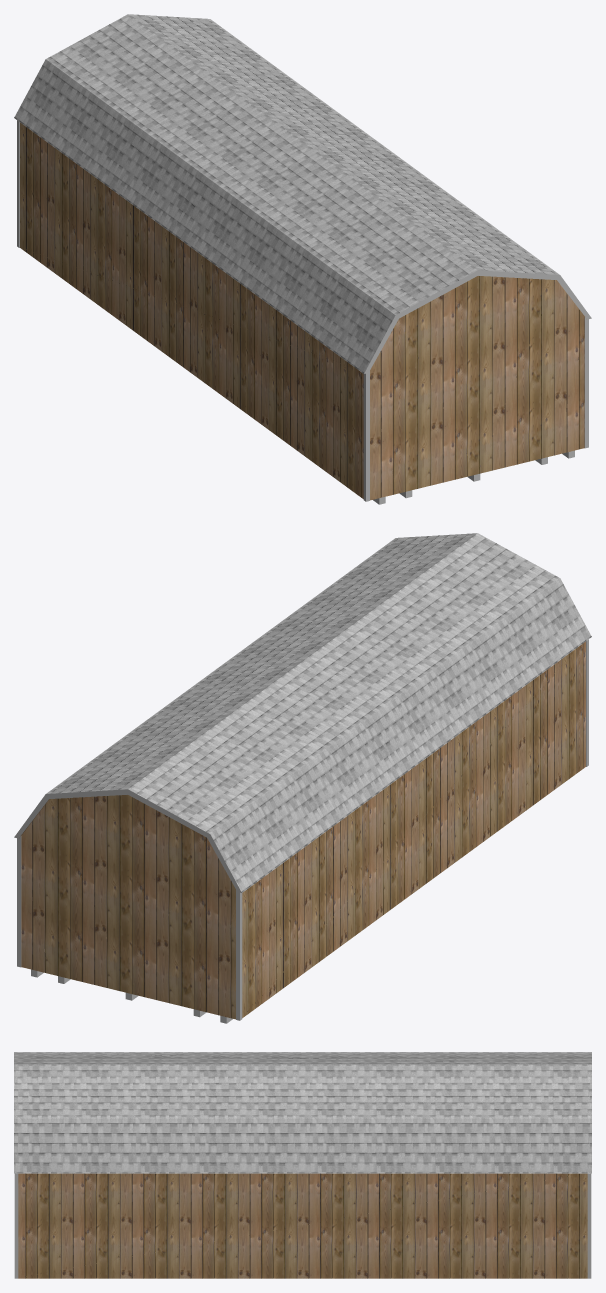
The model's file is Dutch Barn_12x32.obj.
3 renders of one model, top to bottom at view 1: azimuth 30°, elevation 25°; view 2: azimuth 150°, elevation 25°; view 3: azimuth 270°, elevation 25°, orthographic. The views are drawn at different scales.
Parts seen in each view (by area): view 1: Roof, Shed, Trim, Sides; view 2: Roof, Shed, Trim, Sides; view 3: Roof, Shed, Trim.
Part boxes in pixels (x1,y1,x2,y2): Roof: (14,14,559,373); Shed: (20,122,584,500); Trim: (17,120,588,501); Sides: (364,270,591,373); Roof: (46,533,591,892); Shed: (21,641,585,1019); Trim: (17,639,588,1020); Sides: (14,789,241,892); Roof: (14,1052,591,1173); Shed: (18,1173,587,1278); Trim: (14,1173,591,1278).
Size of the model in its own units: 3.69 by 3.27 by 9.8.
